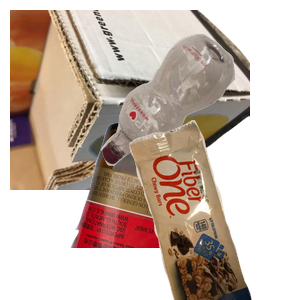cardboard: (10, 10, 250, 190)
glass: (68, 120, 255, 300)
plastic: (99, 31, 300, 189)
trash: (127, 120, 300, 300)
